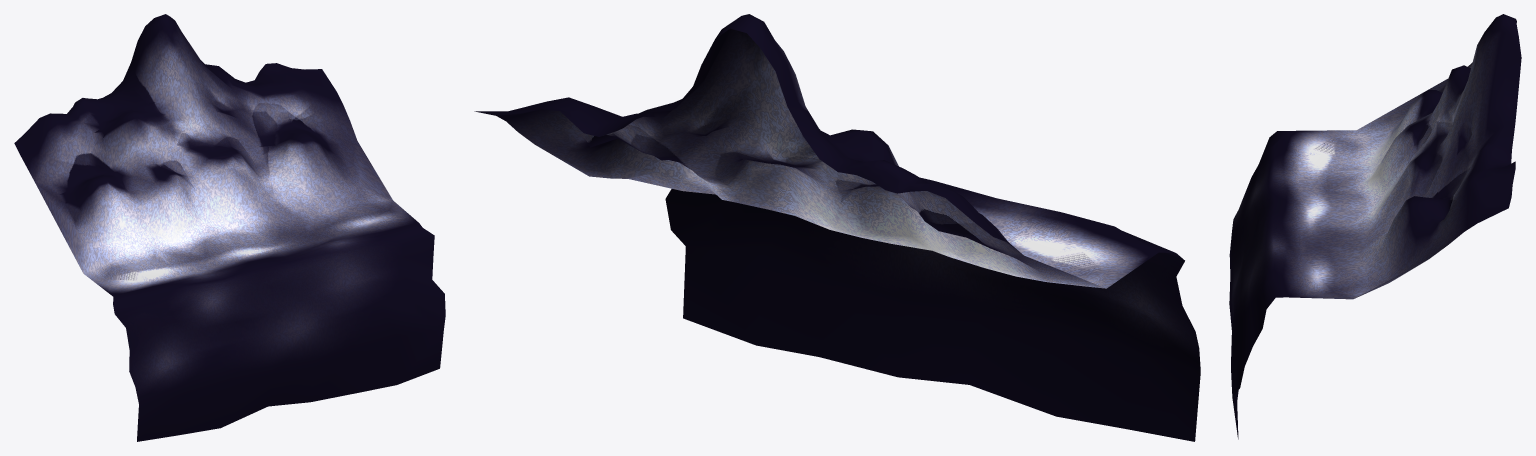
File: background.fbx
The picture shows the model from 3 angles, left to right: view 1: azimuth 30°, elevation 25°; view 2: azimuth 150°, elevation 25°; view 3: azimuth 270°, elevation 25°; orthographic projection. The views are drawn at different scales.
Visible parts, largest first — view 1: Cube.001; view 2: Cube.001; view 3: Cube.001.
Boxes of the visible parts, bbox=[...] form: Cube.001: bbox=[14, 14, 445, 441]; Cube.001: bbox=[474, 14, 1200, 441]; Cube.001: bbox=[1229, 14, 1521, 439].
Size of the model in its own units: 808 by 751 by 573.
1 material, 1 textured.
